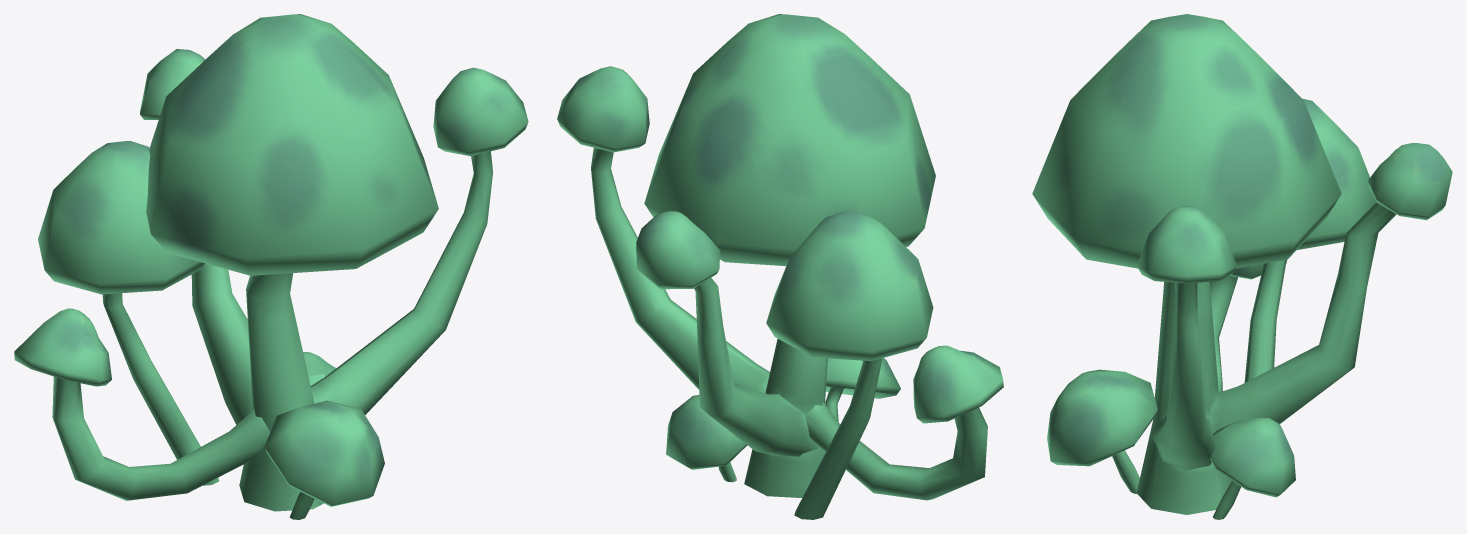
Rendered from CogumeloEmissivo3.fbx.
The picture shows the model from 3 angles, left to right: view 1: azimuth 30°, elevation 25°; view 2: azimuth 150°, elevation 25°; view 3: azimuth 270°, elevation 25°; orthographic projection. The views are drawn at different scales.
Visible parts, largest first — view 1: Cogumelo Emissivo 3; view 2: Cogumelo Emissivo 3; view 3: Cogumelo Emissivo 3.
Boxes of the visible parts, x1,y1,x2,y2 form: Cogumelo Emissivo 3: (14,14,528,519); Cogumelo Emissivo 3: (557,14,1003,519); Cogumelo Emissivo 3: (1032,14,1452,519).
Bounding box in the file's own units: 88.27 × 84 × 67.62.
